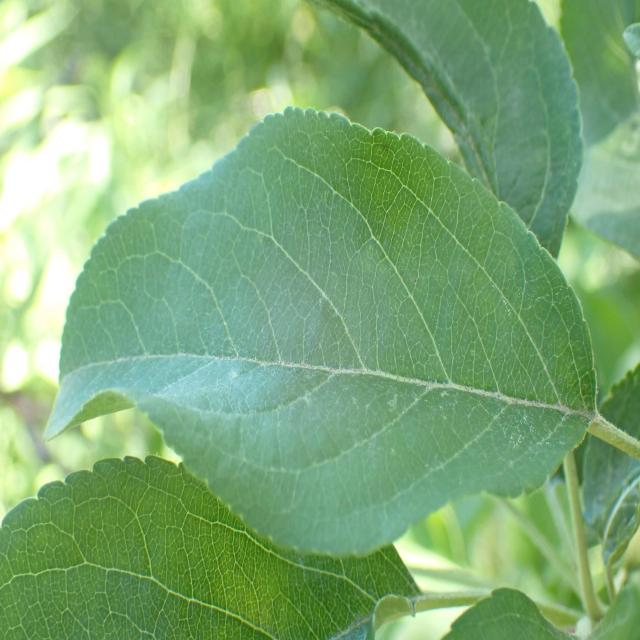healthy: (45, 104, 602, 559), (1, 453, 423, 640), (302, 0, 586, 258)
